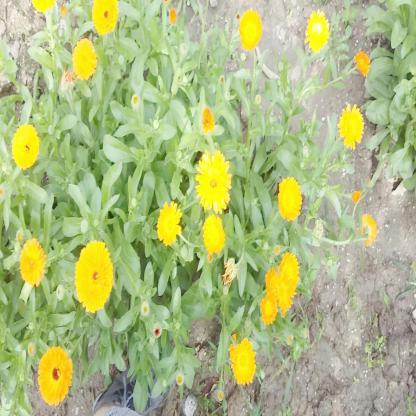marigold: (74, 243, 112, 311), (196, 150, 230, 214), (36, 346, 71, 404), (12, 122, 40, 167), (20, 238, 45, 286), (233, 338, 258, 384), (338, 102, 364, 144), (157, 203, 182, 246), (272, 267, 295, 312), (277, 178, 302, 218), (203, 212, 225, 256), (355, 208, 378, 250), (306, 11, 329, 51), (276, 250, 299, 290), (239, 9, 263, 47), (72, 41, 96, 78), (92, 1, 118, 33), (259, 288, 278, 326), (352, 48, 372, 80), (264, 262, 282, 295)
